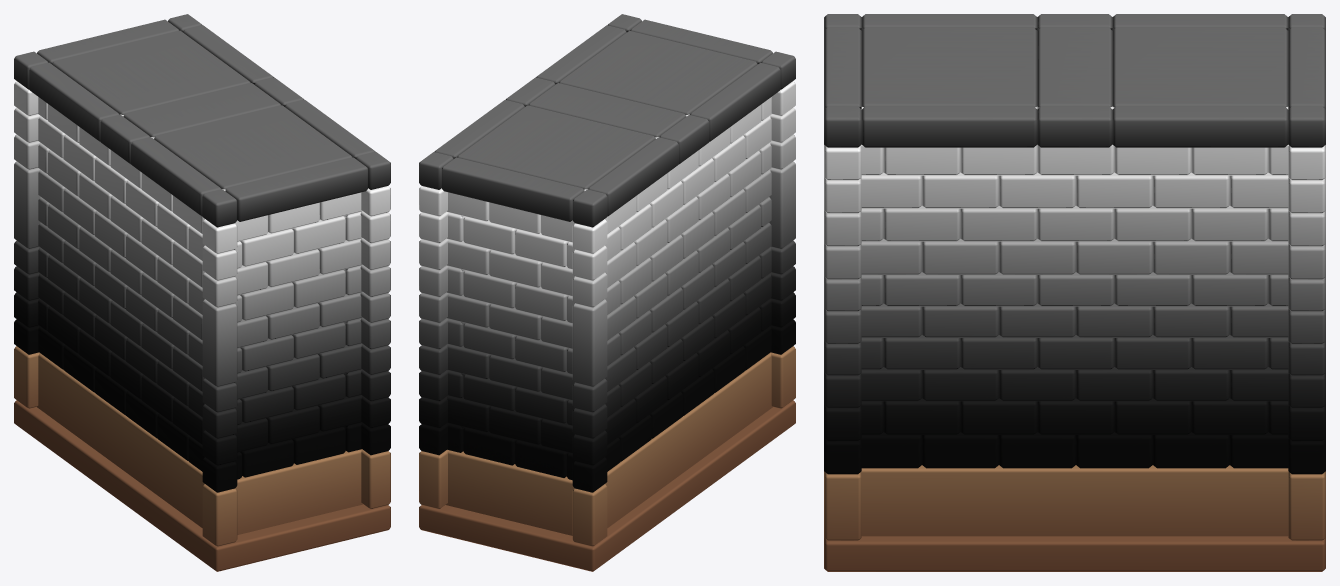
Rendered from SM_Brick_Body_03.fbx.
The picture shows the model from 3 angles, left to right: view 1: azimuth 30°, elevation 25°; view 2: azimuth 150°, elevation 25°; view 3: azimuth 270°, elevation 25°; orthographic projection. The views are drawn at different scales.
Visible parts, largest first — view 1: SM_Brick_Body_03; view 2: SM_Brick_Body_03; view 3: SM_Brick_Body_03.
Part boxes in pixels (left/top/right/bottom): SM_Brick_Body_03: left=14, top=14, right=390, bottom=571; SM_Brick_Body_03: left=419, top=14, right=795, bottom=571; SM_Brick_Body_03: left=824, top=14, right=1325, bottom=571.
Size of the model in its own units: 0.9996 by 2 by 2.
